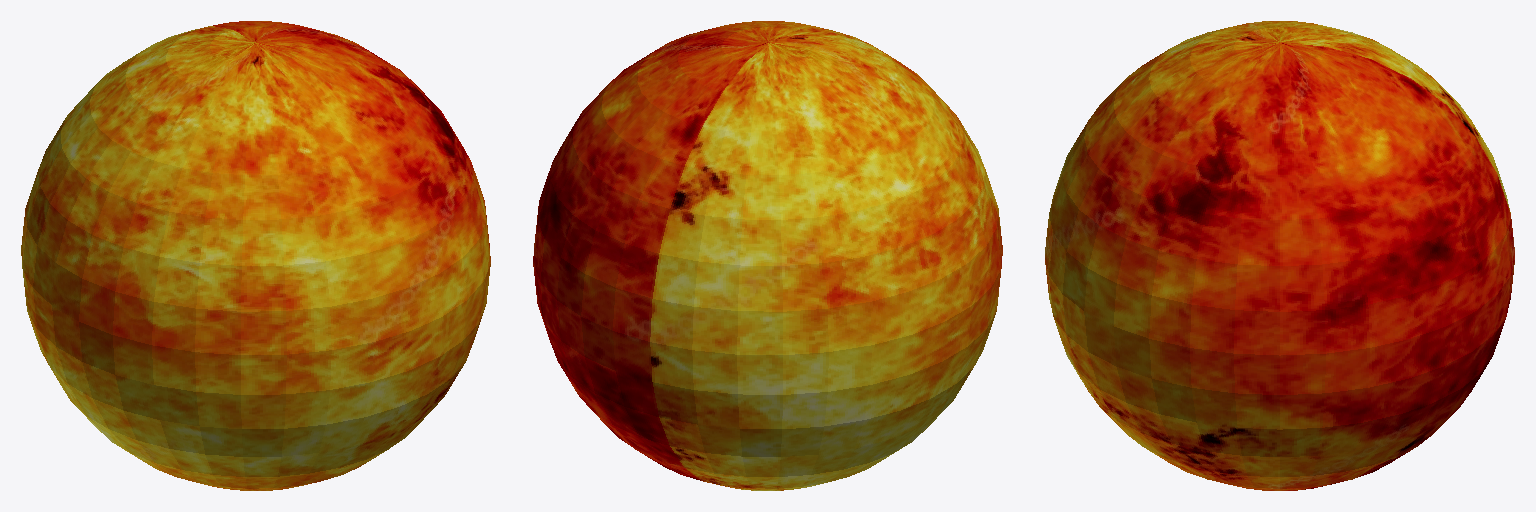
3 renders of one model, left to right at view 1: azimuth 30°, elevation 25°; view 2: azimuth 150°, elevation 25°; view 3: azimuth 270°, elevation 25°, orthographic.
Parts seen in each view (by area): view 1: Sphere001; view 2: Sphere001; view 3: Sphere001.
Part boxes in pixels (left/top/right/bottom): Sphere001: left=21, top=21, right=490, bottom=490; Sphere001: left=533, top=21, right=1002, bottom=490; Sphere001: left=1045, top=21, right=1514, bottom=490.
Bounding box in the file's own units: 79.71 × 79.71 × 79.71.
Materials: 1 (1 with a texture image).